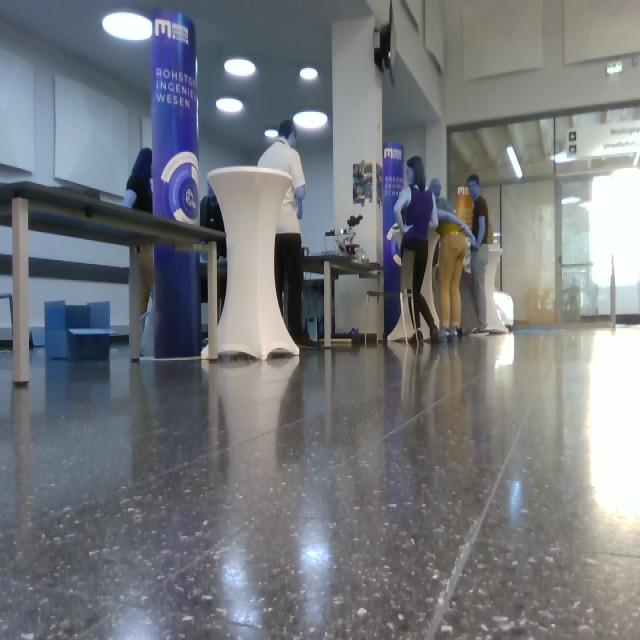light bulb: (103, 13, 152, 40), (294, 112, 328, 130), (226, 58, 256, 77), (506, 145, 523, 178), (300, 68, 318, 81), (608, 61, 620, 74), (265, 129, 279, 138), (635, 57, 640, 65)
person: (259, 121, 310, 345), (394, 157, 439, 344), (431, 180, 474, 341), (468, 176, 489, 333)
pillar: (333, 17, 382, 261), (152, 12, 199, 225), (155, 245, 203, 358), (336, 277, 377, 333)
table: (1, 184, 224, 384), (209, 168, 299, 360)
tiled floor: (1, 329, 640, 640), (1, 330, 640, 640)
